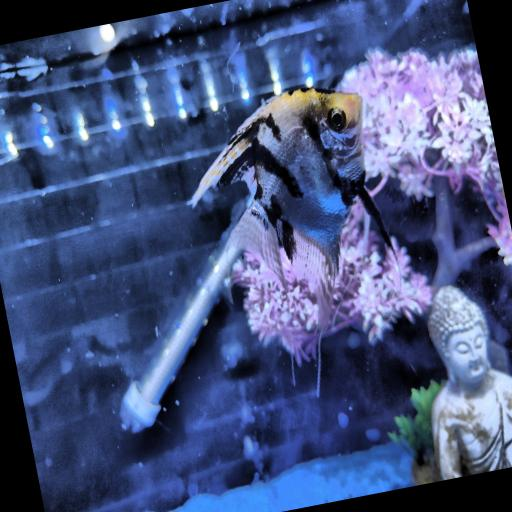Fish: (189, 89, 391, 334)
